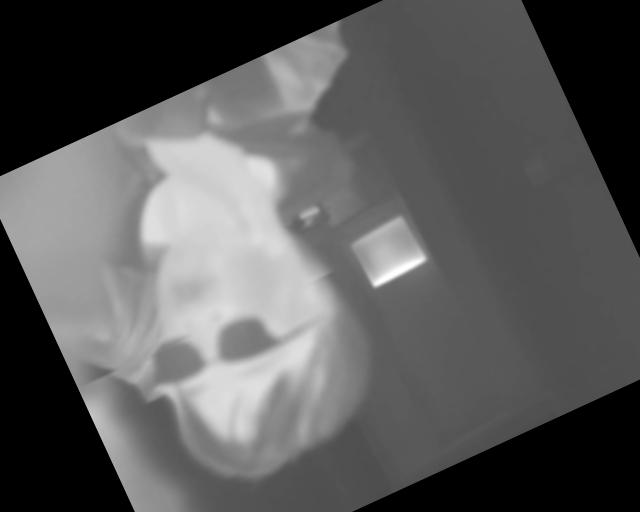face: (109, 187, 405, 500)
